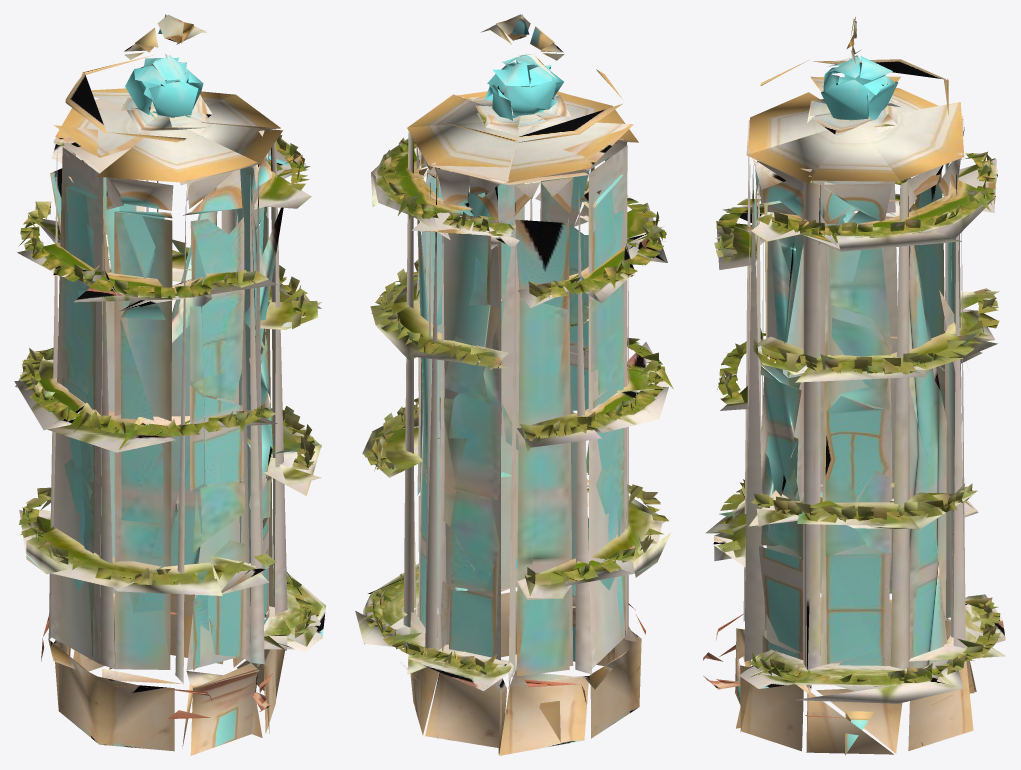
File: solar-spire.lod1.glb
3 views of the same model, side by side, from view 1: azimuth 30°, elevation 25°; view 2: azimuth 150°, elevation 25°; view 3: azimuth 270°, elevation 25° (orthographic).
Visible parts, largest first — view 1: solar-spire_lod1; view 2: solar-spire_lod1; view 3: solar-spire_lod1.
Boxes of the visible parts, x1,y1,x2,y2 form: solar-spire_lod1: (14,14,325,755); solar-spire_lod1: (355,14,673,755); solar-spire_lod1: (703,16,1005,755).
Size of the model in its own units: 6.08 by 14.93 by 5.91.
Materials: 1 (1 with a texture image).
